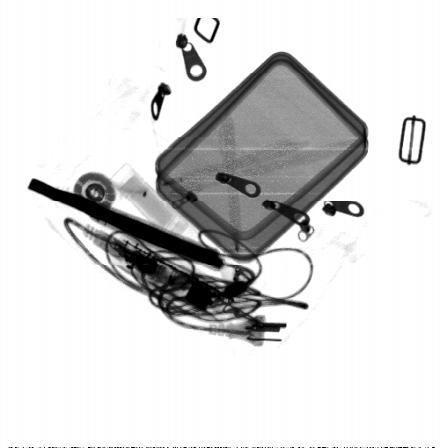Pliers: (27, 175, 226, 273)
